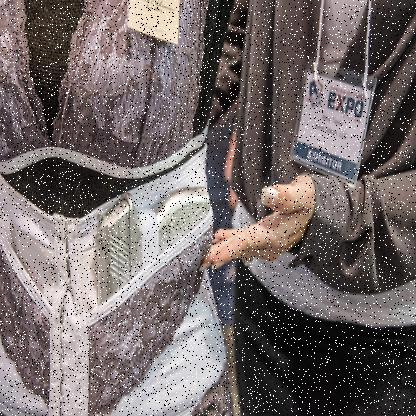pistol: (90, 160, 213, 385)
